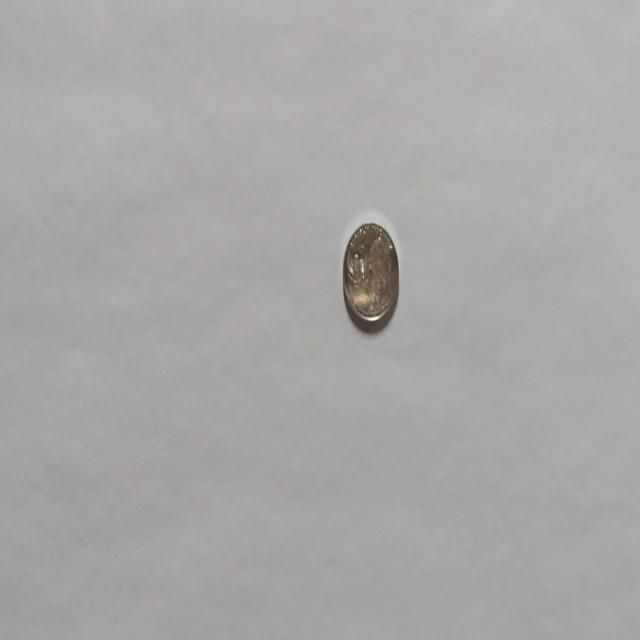dua ratus rupiah: (342, 219, 399, 329)
